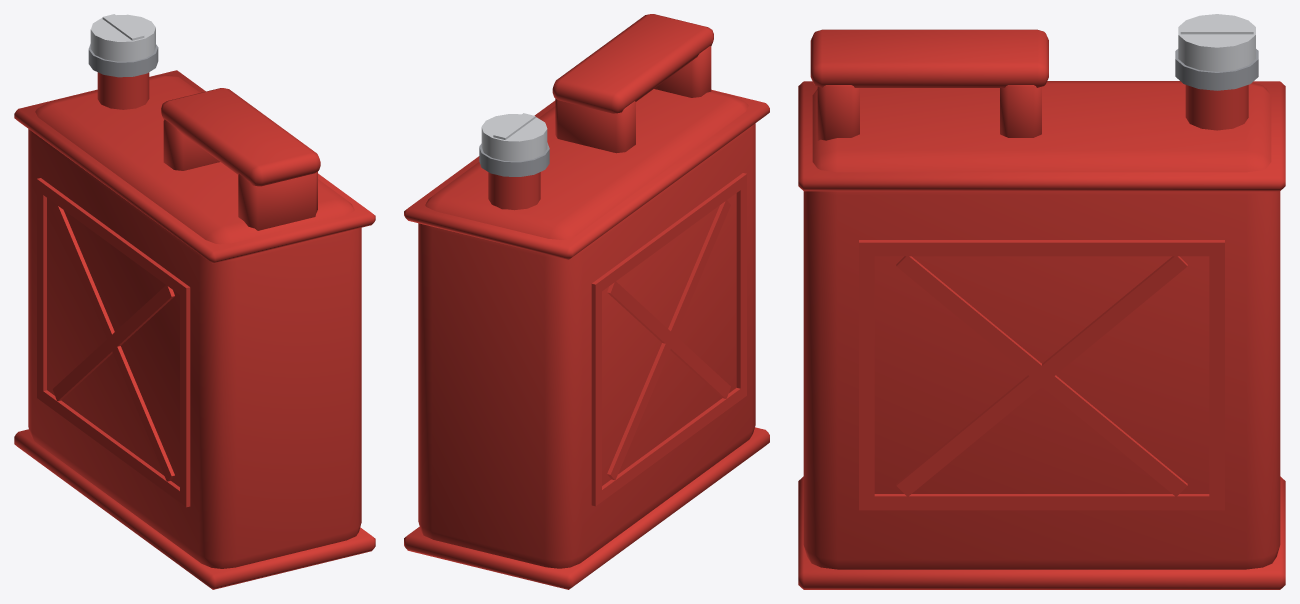
Rendered from fuel-can.glb.
3 views of the same model, side by side, from view 1: azimuth 30°, elevation 25°; view 2: azimuth 150°, elevation 25°; view 3: azimuth 270°, elevation 25° (orthographic). The views are drawn at different scales.
Parts seen in each view (by area): view 1: SM_Jam_FuelCan; view 2: SM_Jam_FuelCan; view 3: SM_Jam_FuelCan.
Part boxes in pixels (<box>): SM_Jam_FuelCan: <box>14,14,375,589</box>; SM_Jam_FuelCan: <box>404,14,769,589</box>; SM_Jam_FuelCan: <box>798,14,1285,589</box>.
Bounding box in the file's own units: 0.168 × 0.405 × 0.348.
